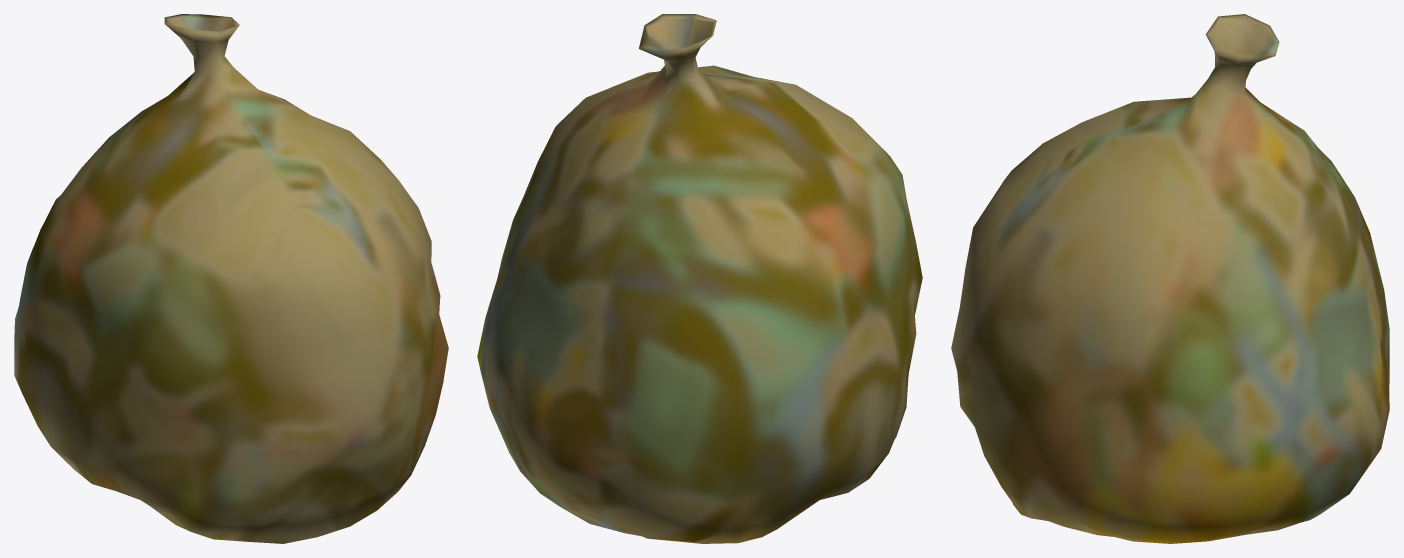
File: TrashBag.FBX
3 views of the same model, side by side, from view 1: azimuth 30°, elevation 25°; view 2: azimuth 150°, elevation 25°; view 3: azimuth 270°, elevation 25° (orthographic). The views are drawn at different scales.
Visible parts, largest first — view 1: TrashBag; view 2: TrashBag; view 3: TrashBag.
Boxes of the visible parts, x1,y1,x2,y2 form: TrashBag: [14, 14, 448, 543]; TrashBag: [477, 14, 922, 543]; TrashBag: [951, 14, 1389, 543].
Size of the model in its own units: 37.61 by 45.79 by 38.97.
